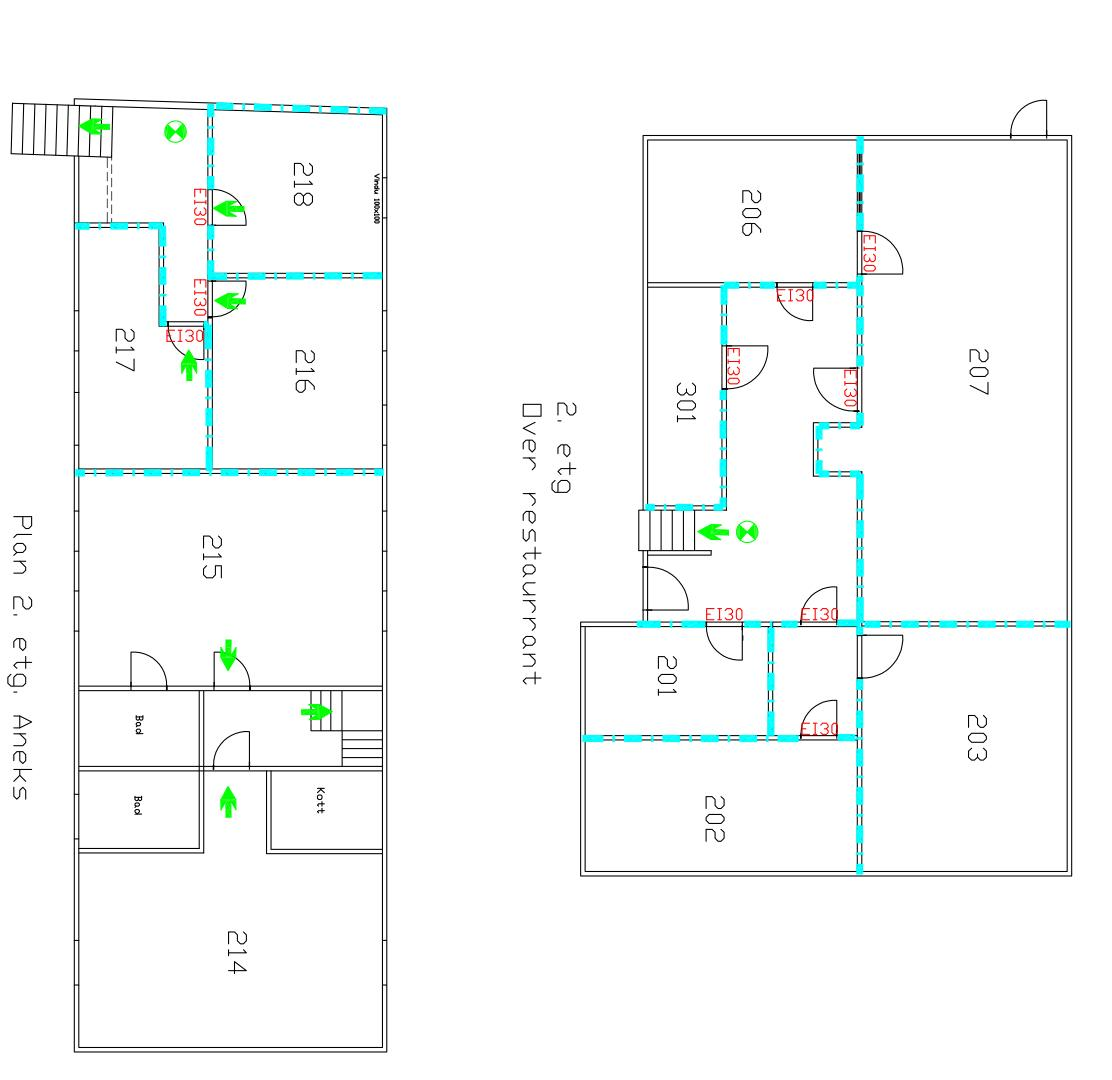room: (861, 138, 1069, 624), (77, 474, 384, 690), (76, 847, 383, 1046), (861, 625, 1069, 871), (581, 737, 858, 873), (211, 277, 386, 472), (76, 223, 209, 467), (646, 137, 859, 282), (210, 107, 384, 276), (582, 624, 770, 737), (646, 282, 721, 509)
